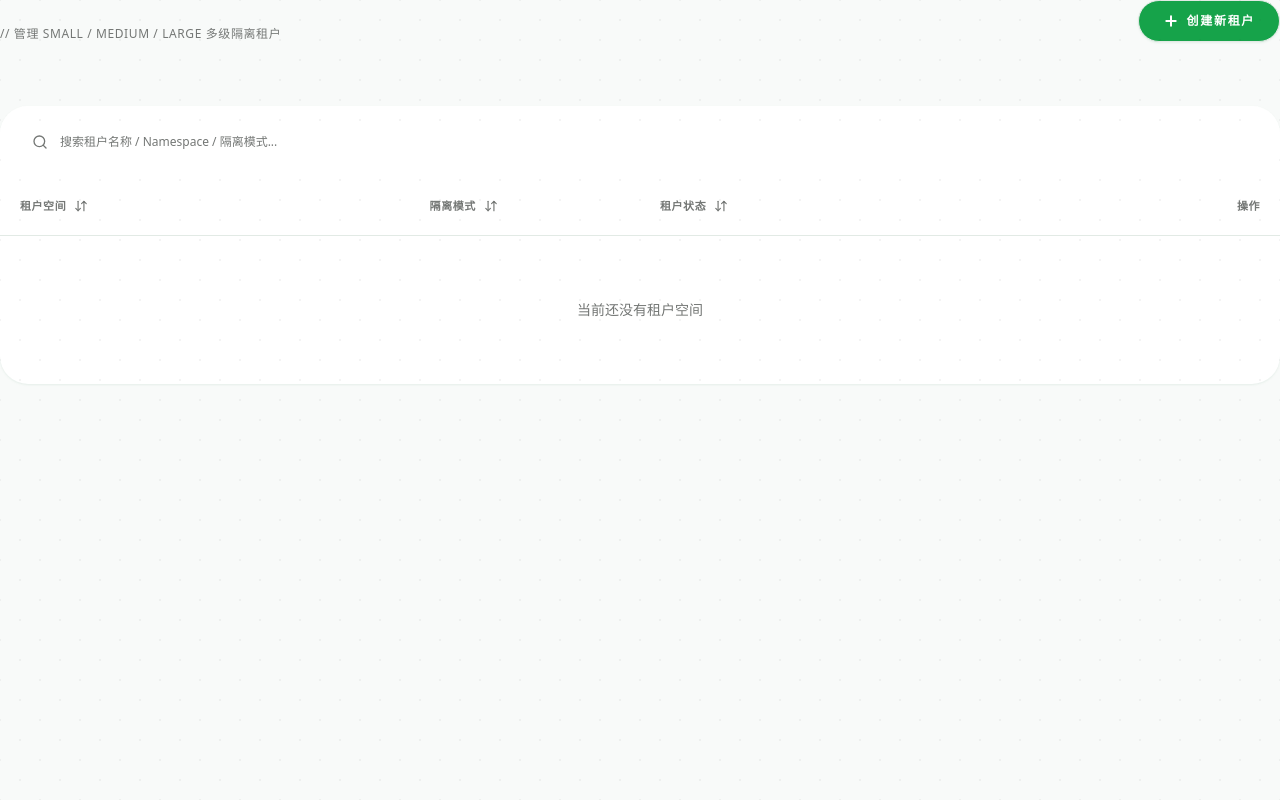
Scenario: Platform TenantsPage › 打开表单后展示字段标签与更清晰的配额说明
Click the button "创建新租户": {"x": 1209, "y": 21} [1138,0,1279,42]
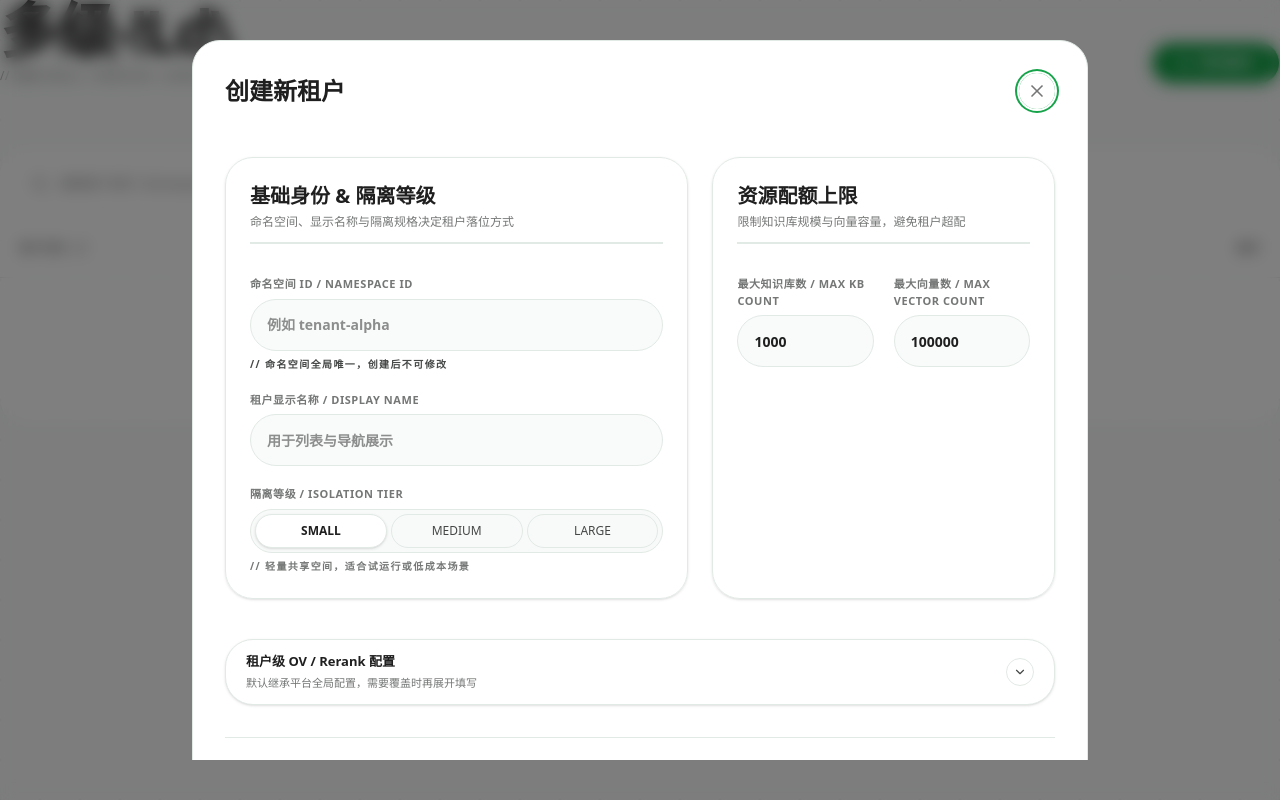
expect the text "命名空间 ID / Namespace ID" is shown: met, box [250,276,413,291]
expect the text "租户显示名称 / Display Name" is shown: met, box [250,392,419,406]
expect the text "最大知识库数 / Max KB Count" is shown: met, box [737,276,874,309]
